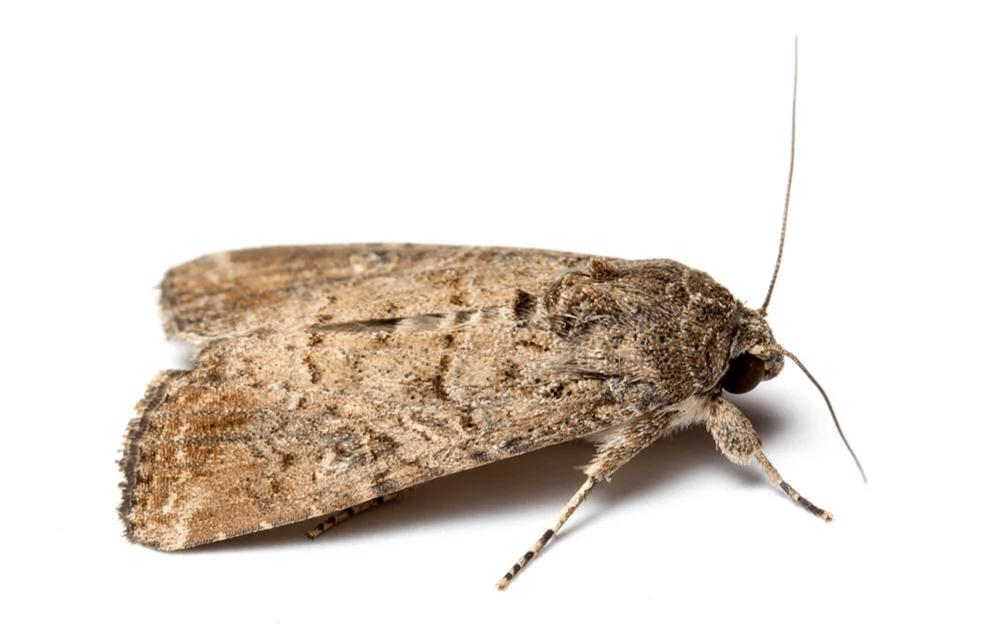army worm adult: (89, 18, 879, 613)
